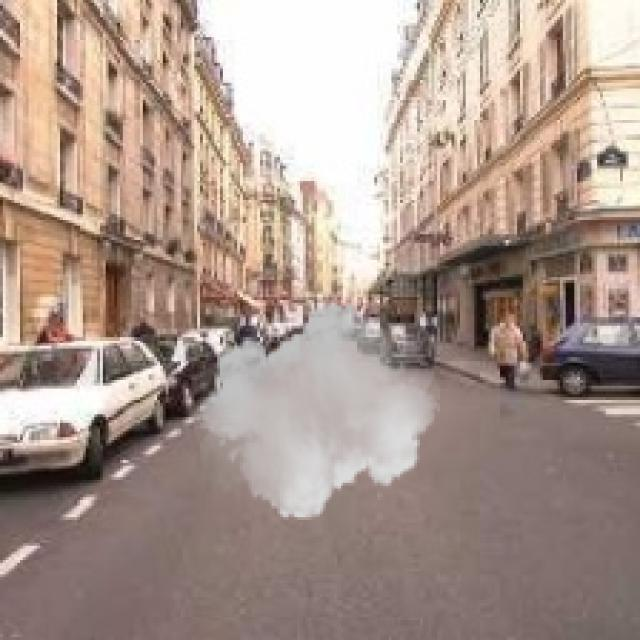Smoke: (194, 294, 440, 529)
